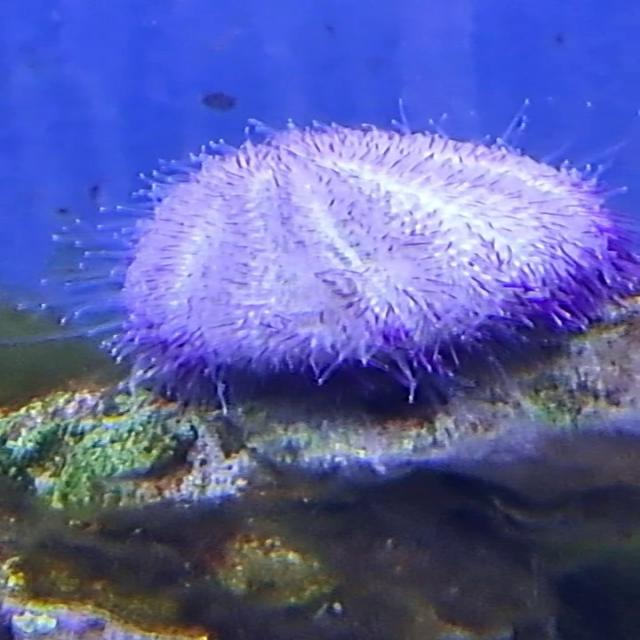Deniz Kestanesi: (50, 108, 640, 418)
